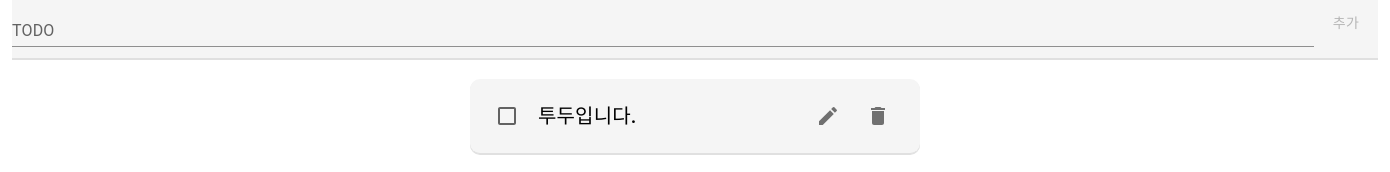
Test case: <Todo/> › 삭제 버튼 클릭하면 확인 후 빈 배열 반환
This screenshot has width=1390, height=172.
Click the button with test id "delete-button". click: (878, 116)
box: [858,96,898,136]
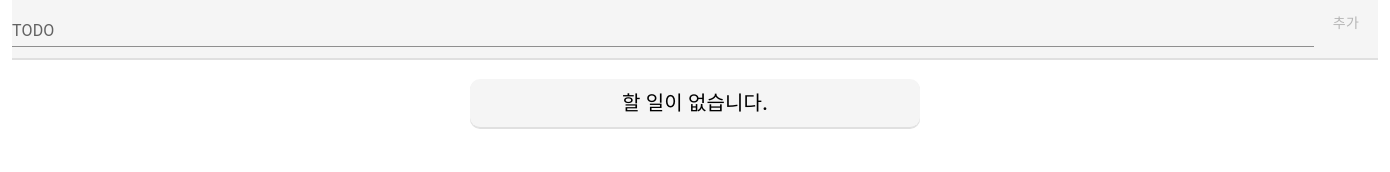
Now the heading "할 일이 없습니다." is shown, box [622,87,768,119]
